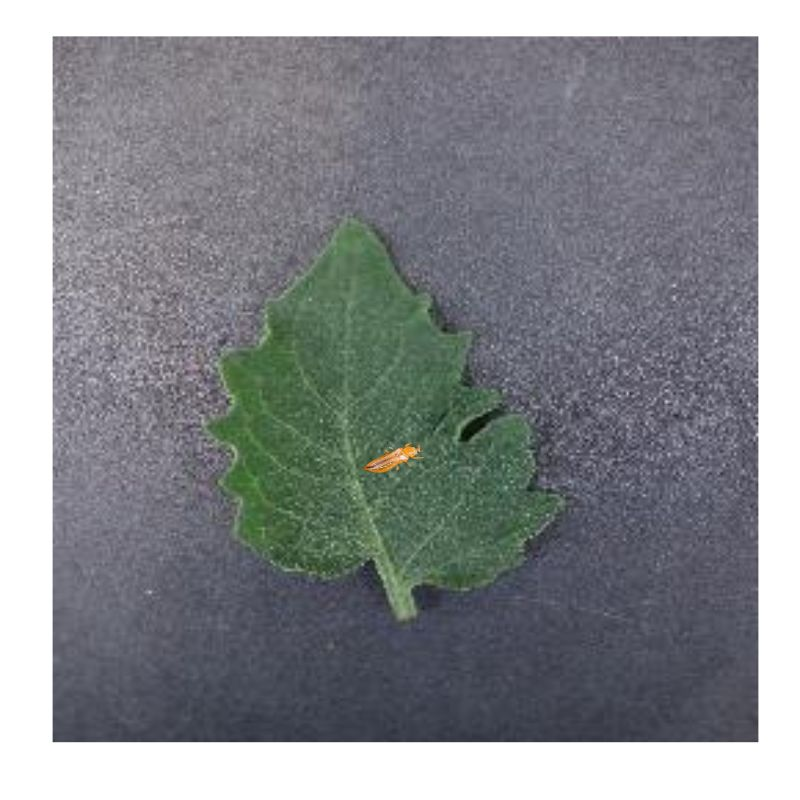thrips: (361, 441, 426, 474)
